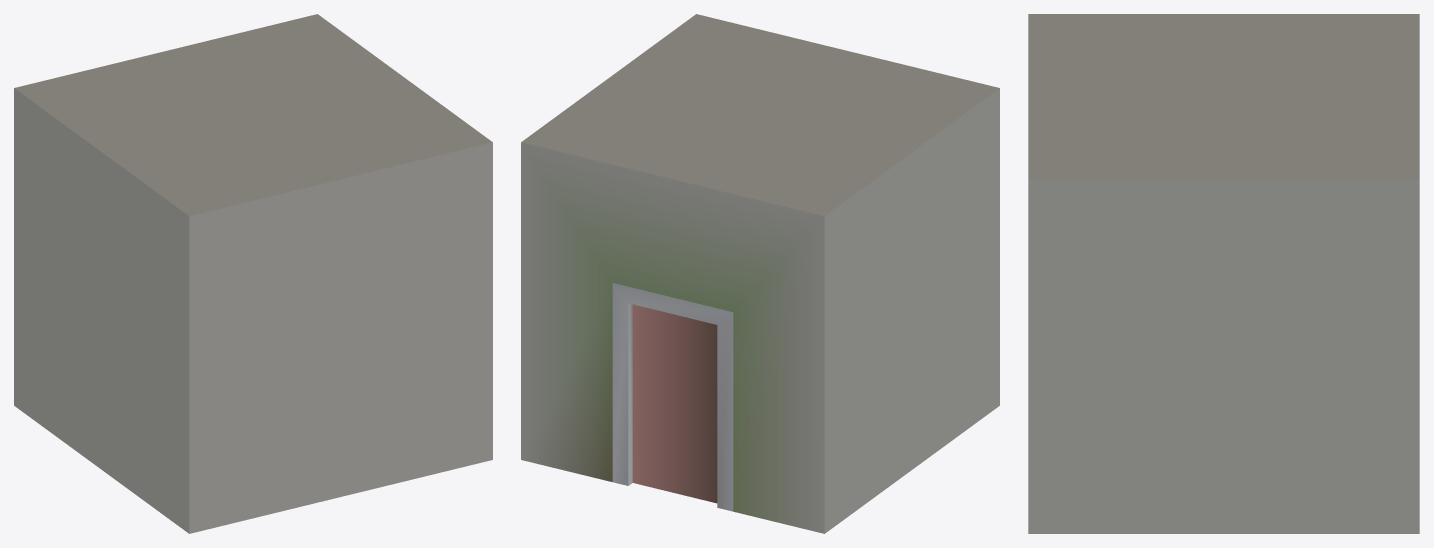
Rendered from wall-b-door.glb.
3 renders of one model, left to right at view 1: azimuth 30°, elevation 25°; view 2: azimuth 150°, elevation 25°; view 3: azimuth 270°, elevation 25°, orthographic. The views are drawn at different scales.
Visible parts, largest first — view 1: wall-b-door; view 2: wall-b-door; view 3: wall-b-door.
Boxes of the visible parts, left/top/right/bottom form: wall-b-door: left=14, top=14, right=492, bottom=533; wall-b-door: left=521, top=14, right=999, bottom=533; wall-b-door: left=1028, top=14, right=1419, bottom=533.
Size of the model in its own units: 1 by 1 by 1.
